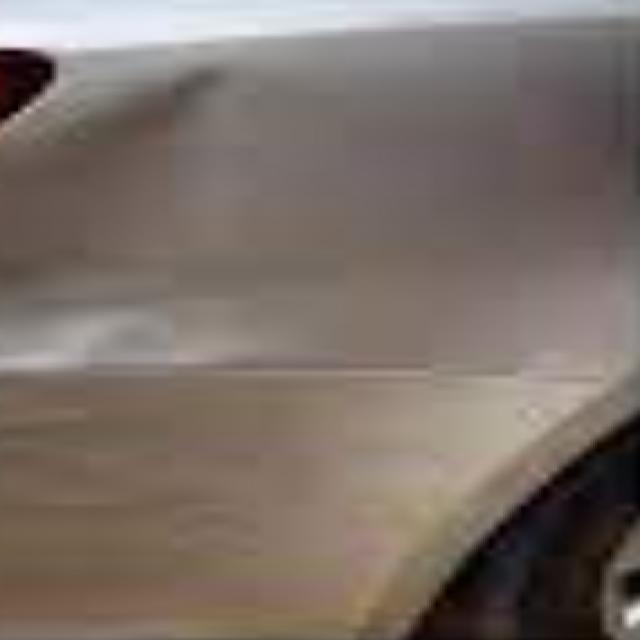dents: (0, 70, 309, 386)
